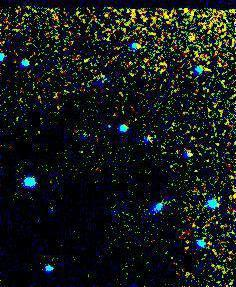star: (177, 20, 207, 50)
